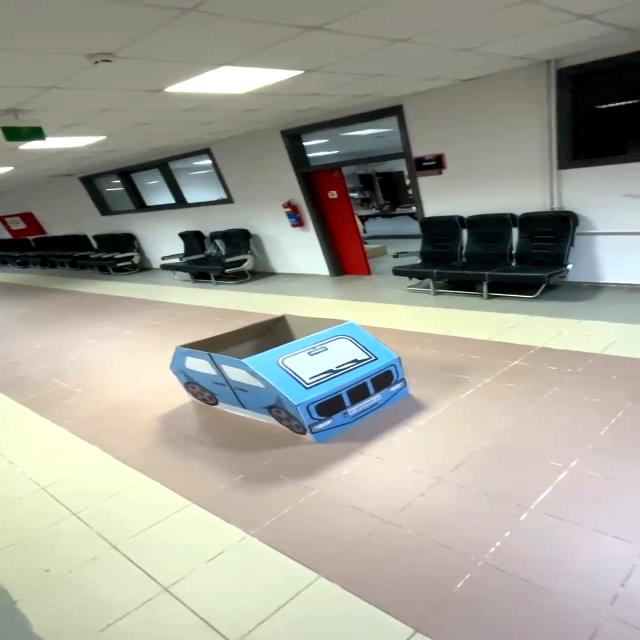blue_car: (139, 304, 427, 451)
